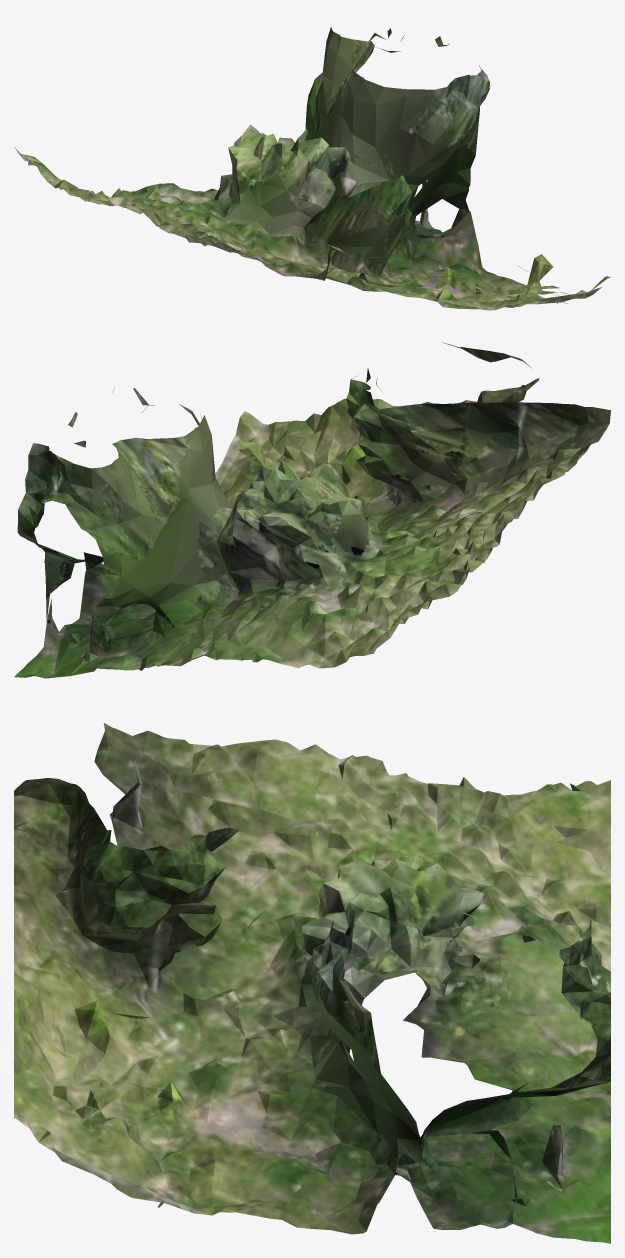
3 renders of one model, top to bottom at view 1: azimuth 30°, elevation 25°; view 2: azimuth 150°, elevation 25°; view 3: azimuth 270°, elevation 25°, orthographic. The views are drawn at different scales.
Size of the model in its own units: 26.11 by 13.73 by 26.11.
4 materials, 4 textured.
